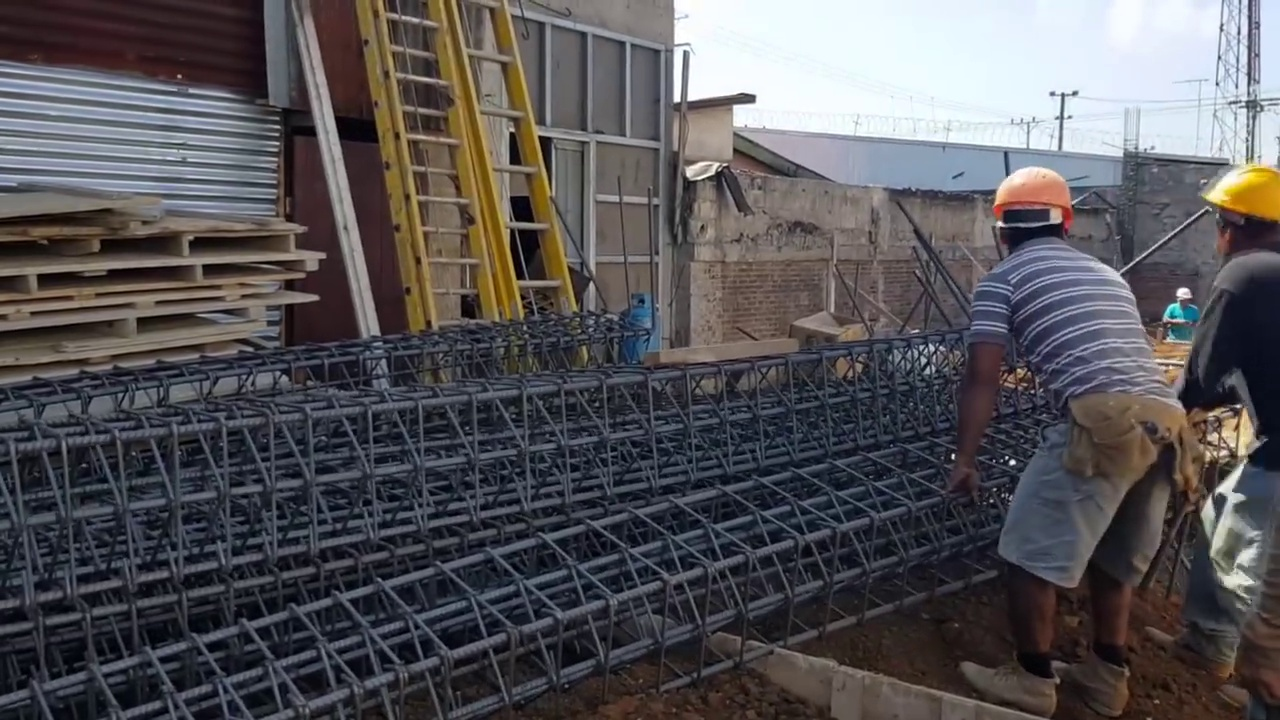helmet: (996, 166, 1085, 227), (1203, 165, 1280, 224), (1175, 287, 1193, 304)
helmet-on: (988, 159, 1083, 261), (1201, 161, 1280, 263), (1174, 287, 1193, 311)
person: (943, 154, 1192, 718), (1166, 163, 1280, 693), (1162, 287, 1202, 347)
